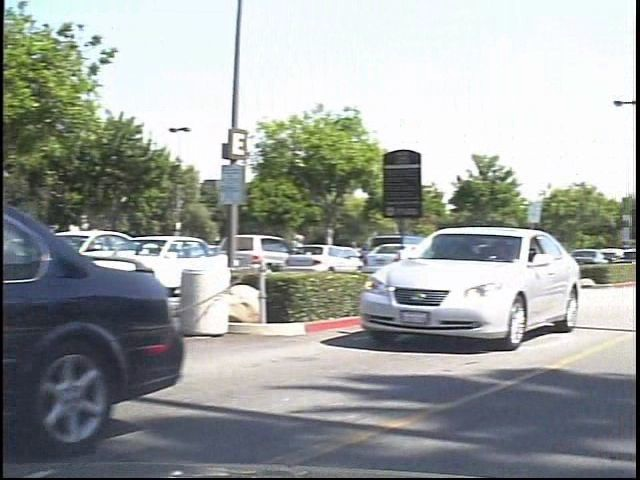person: (293, 225, 320, 276)
